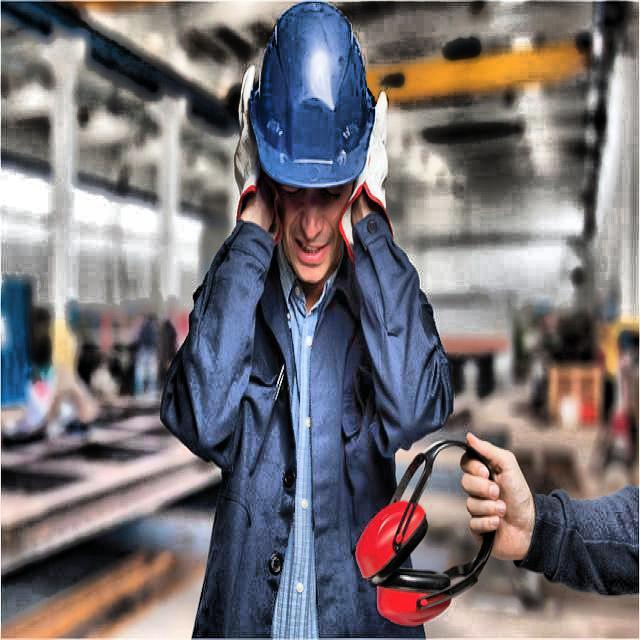person: (158, 0, 454, 614)
